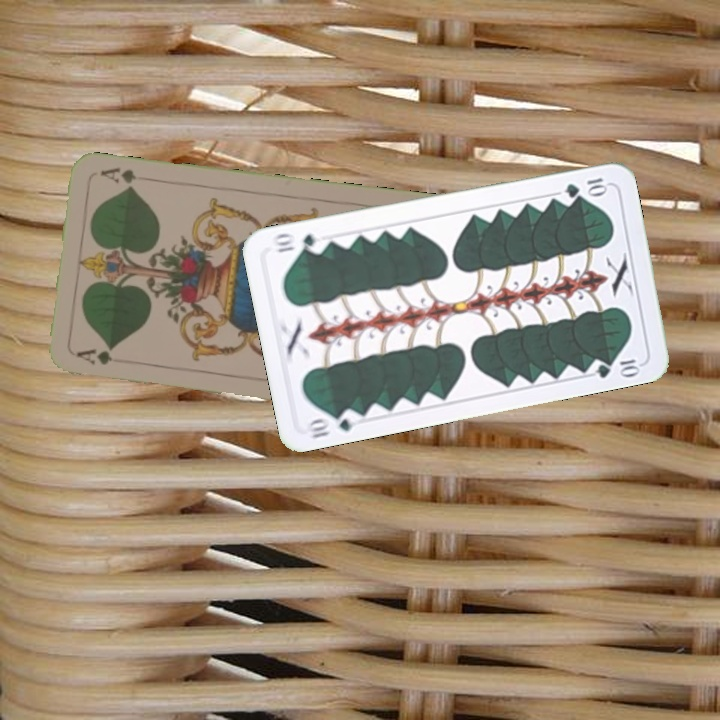G10: (302, 406, 362, 441), (561, 173, 610, 200)
GA: (72, 345, 130, 368)
